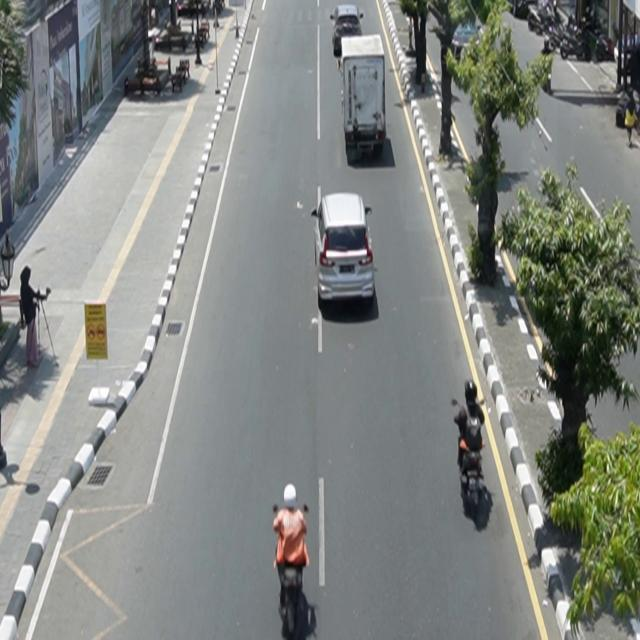car: (312, 193, 376, 307), (331, 5, 364, 59), (452, 21, 484, 61)
truck: (340, 34, 388, 162)
